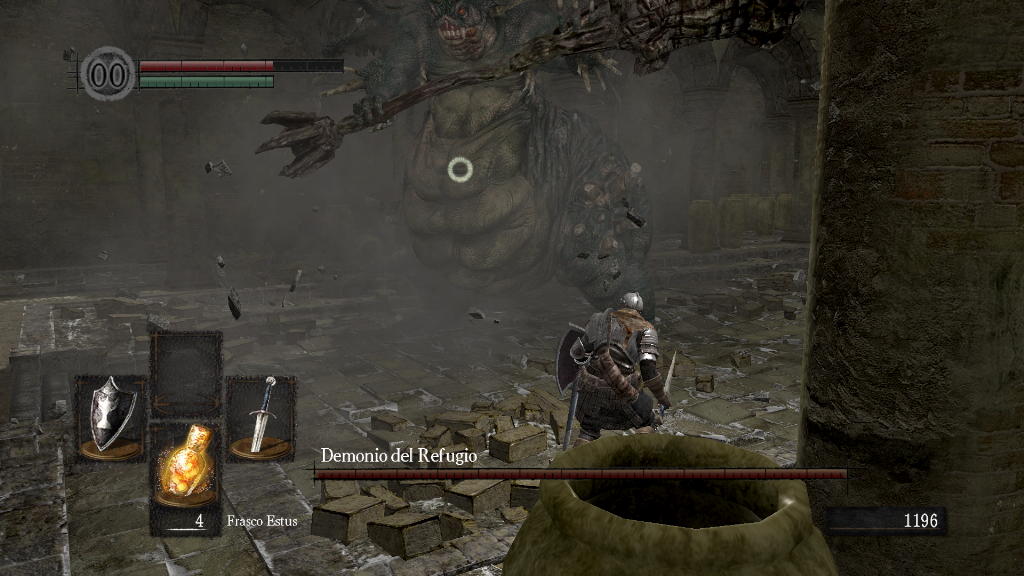asylumDemon: (254, 2, 663, 331)
bossHP: (314, 469, 847, 479)
health: (138, 58, 343, 71)
humanity: (80, 45, 136, 102)
player: (555, 290, 677, 432)
souls: (825, 506, 945, 536)
stamina: (138, 74, 274, 88)
